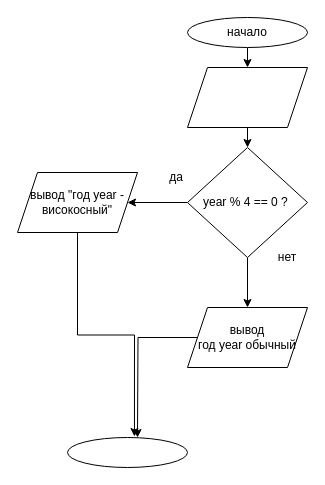
Image size: 325x485. Some labels were removed from this diagram. The shapes that lost their labels are listed below. From the top down, each one's centre as x and y in pixels, then its label:
the point at 247,97: ввод года year:int
the point at 127,452: конец
